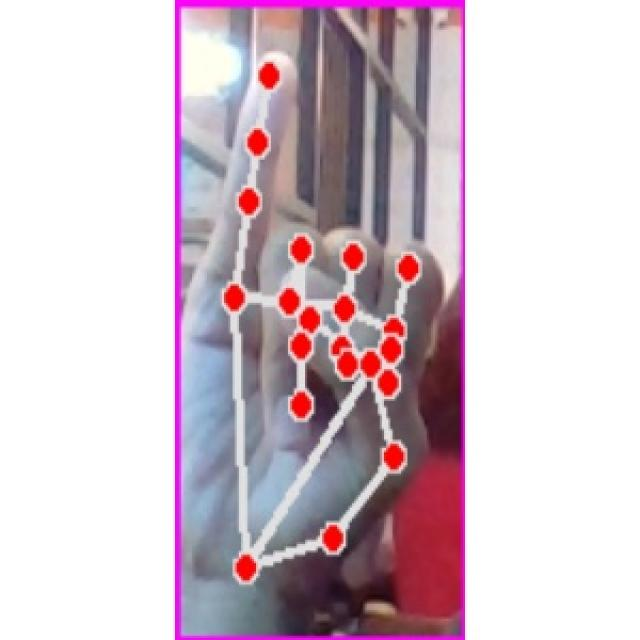I: (187, 45, 459, 601)
